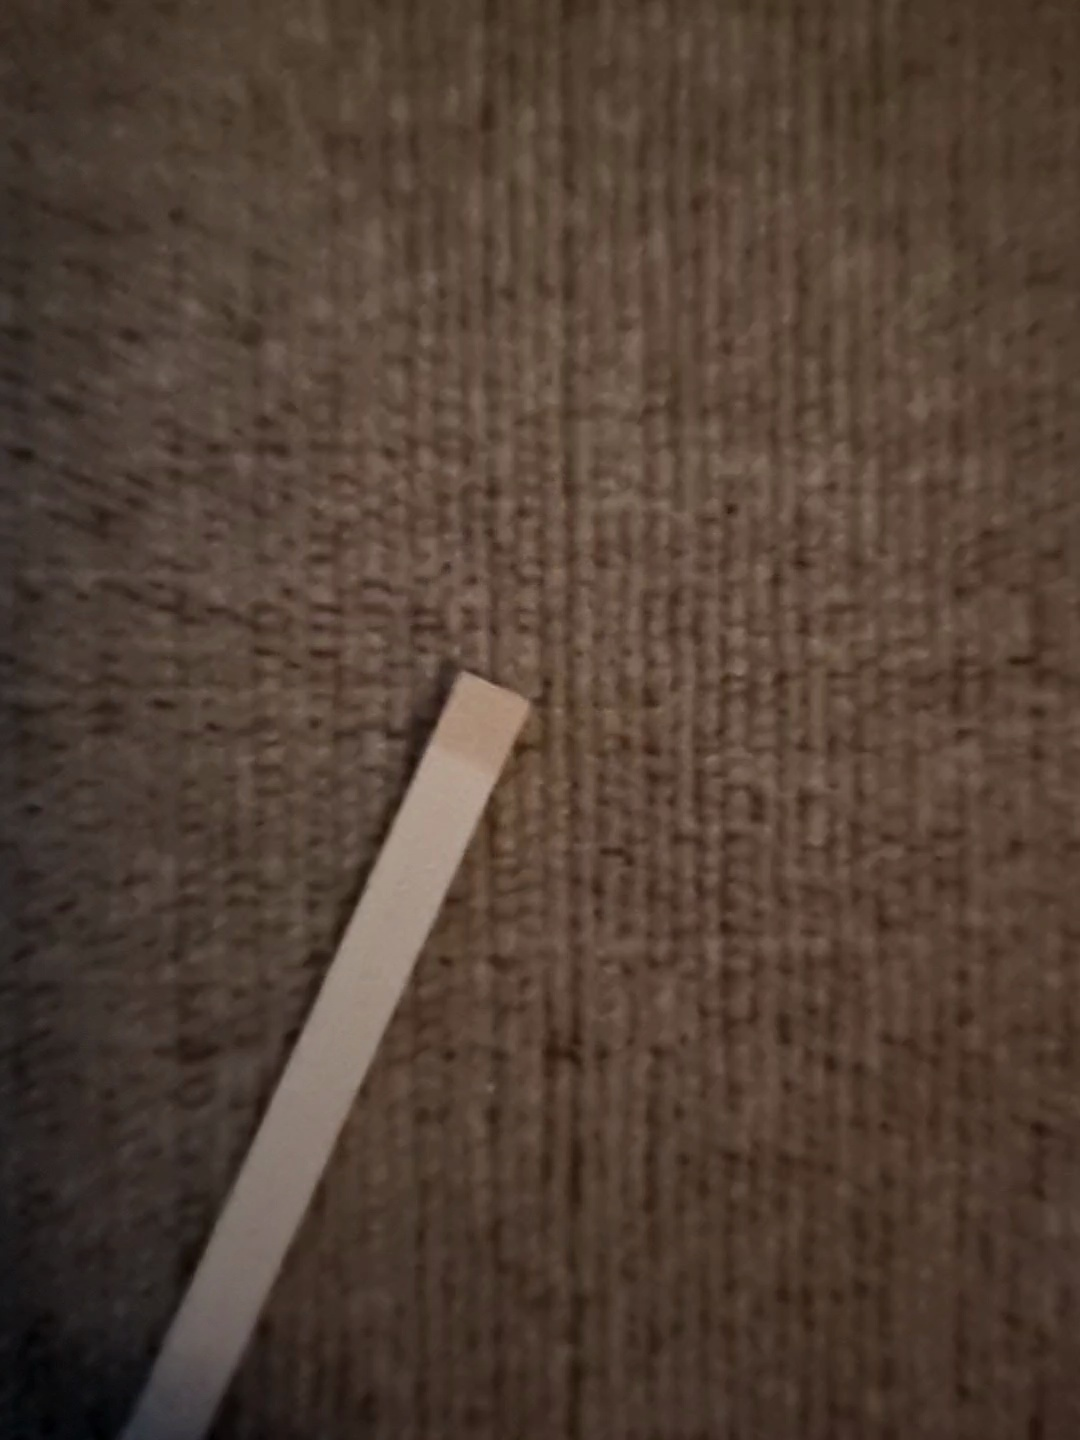keto-tip: (413, 668, 539, 780)
